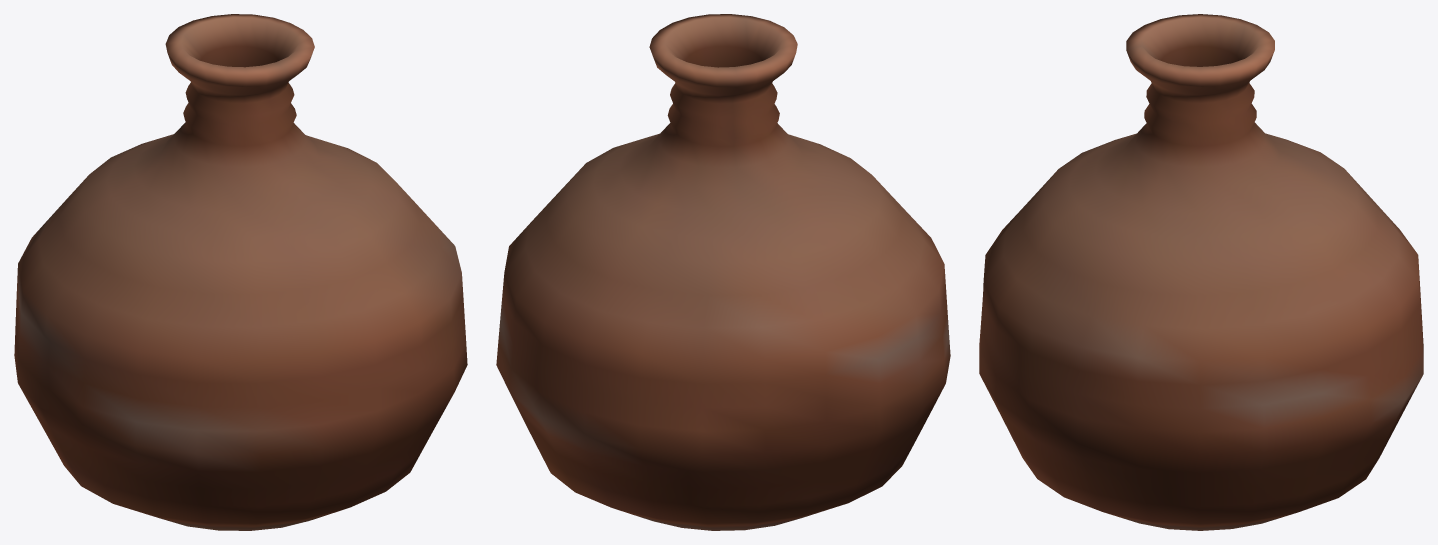
File: pot_surahi_v2_b.glb
3 views of the same model, side by side, from view 1: azimuth 30°, elevation 25°; view 2: azimuth 150°, elevation 25°; view 3: azimuth 270°, elevation 25° (orthographic).
Parts seen in each view (by area): view 1: hb_main; view 2: hb_main; view 3: hb_main.
Boxes of the visible parts, box(x1,y1,x2,y2) form: hb_main: box(14, 14, 467, 530); hb_main: box(496, 14, 950, 530); hb_main: box(979, 14, 1423, 530).
Size of the model in its own units: 0.4031 by 0.43 by 0.3931.
